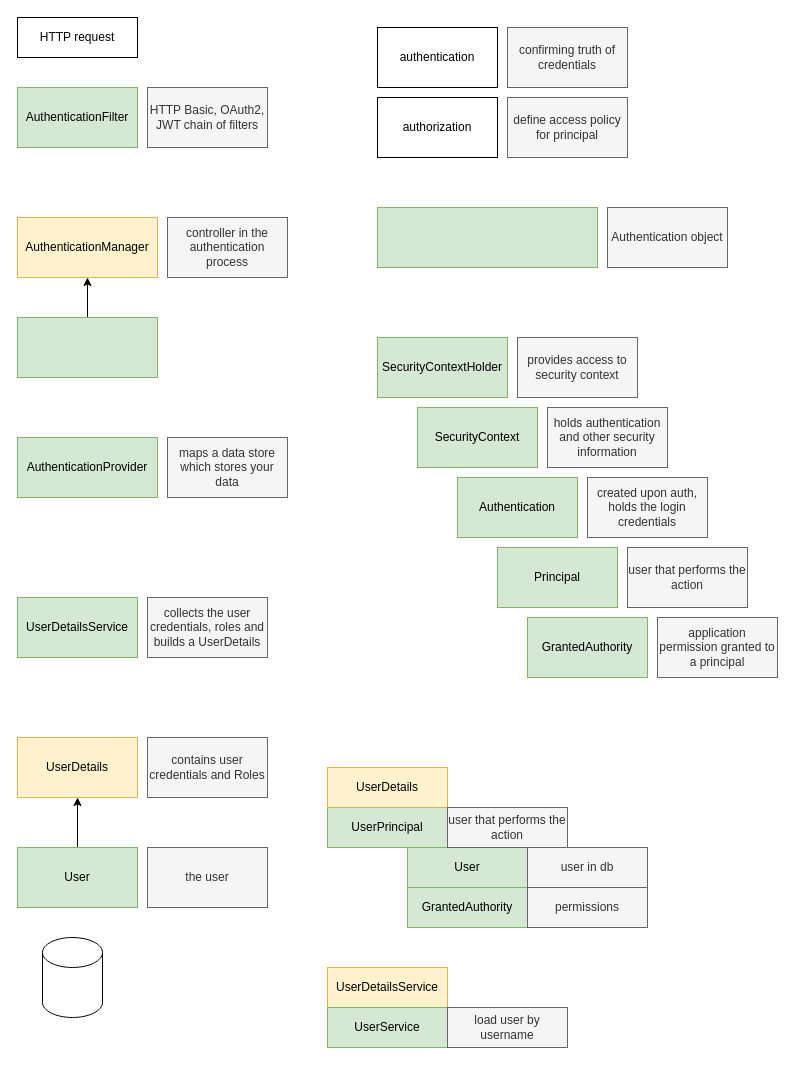
Image size: 795x1065. Some labels were removed from this diagram. Here are the shapes that lost their labels. From the top down, the centre of each, then its label:
(487,237): UsernamePasswordAuthentiationToken
(87,347): ProviderManager
(72,977): DB
